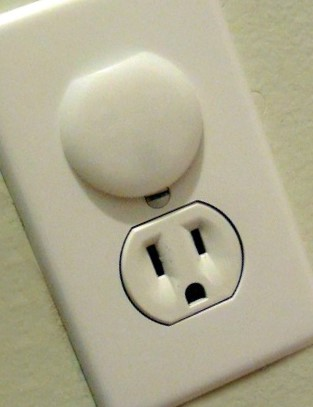outlet: (132, 218, 218, 309)
